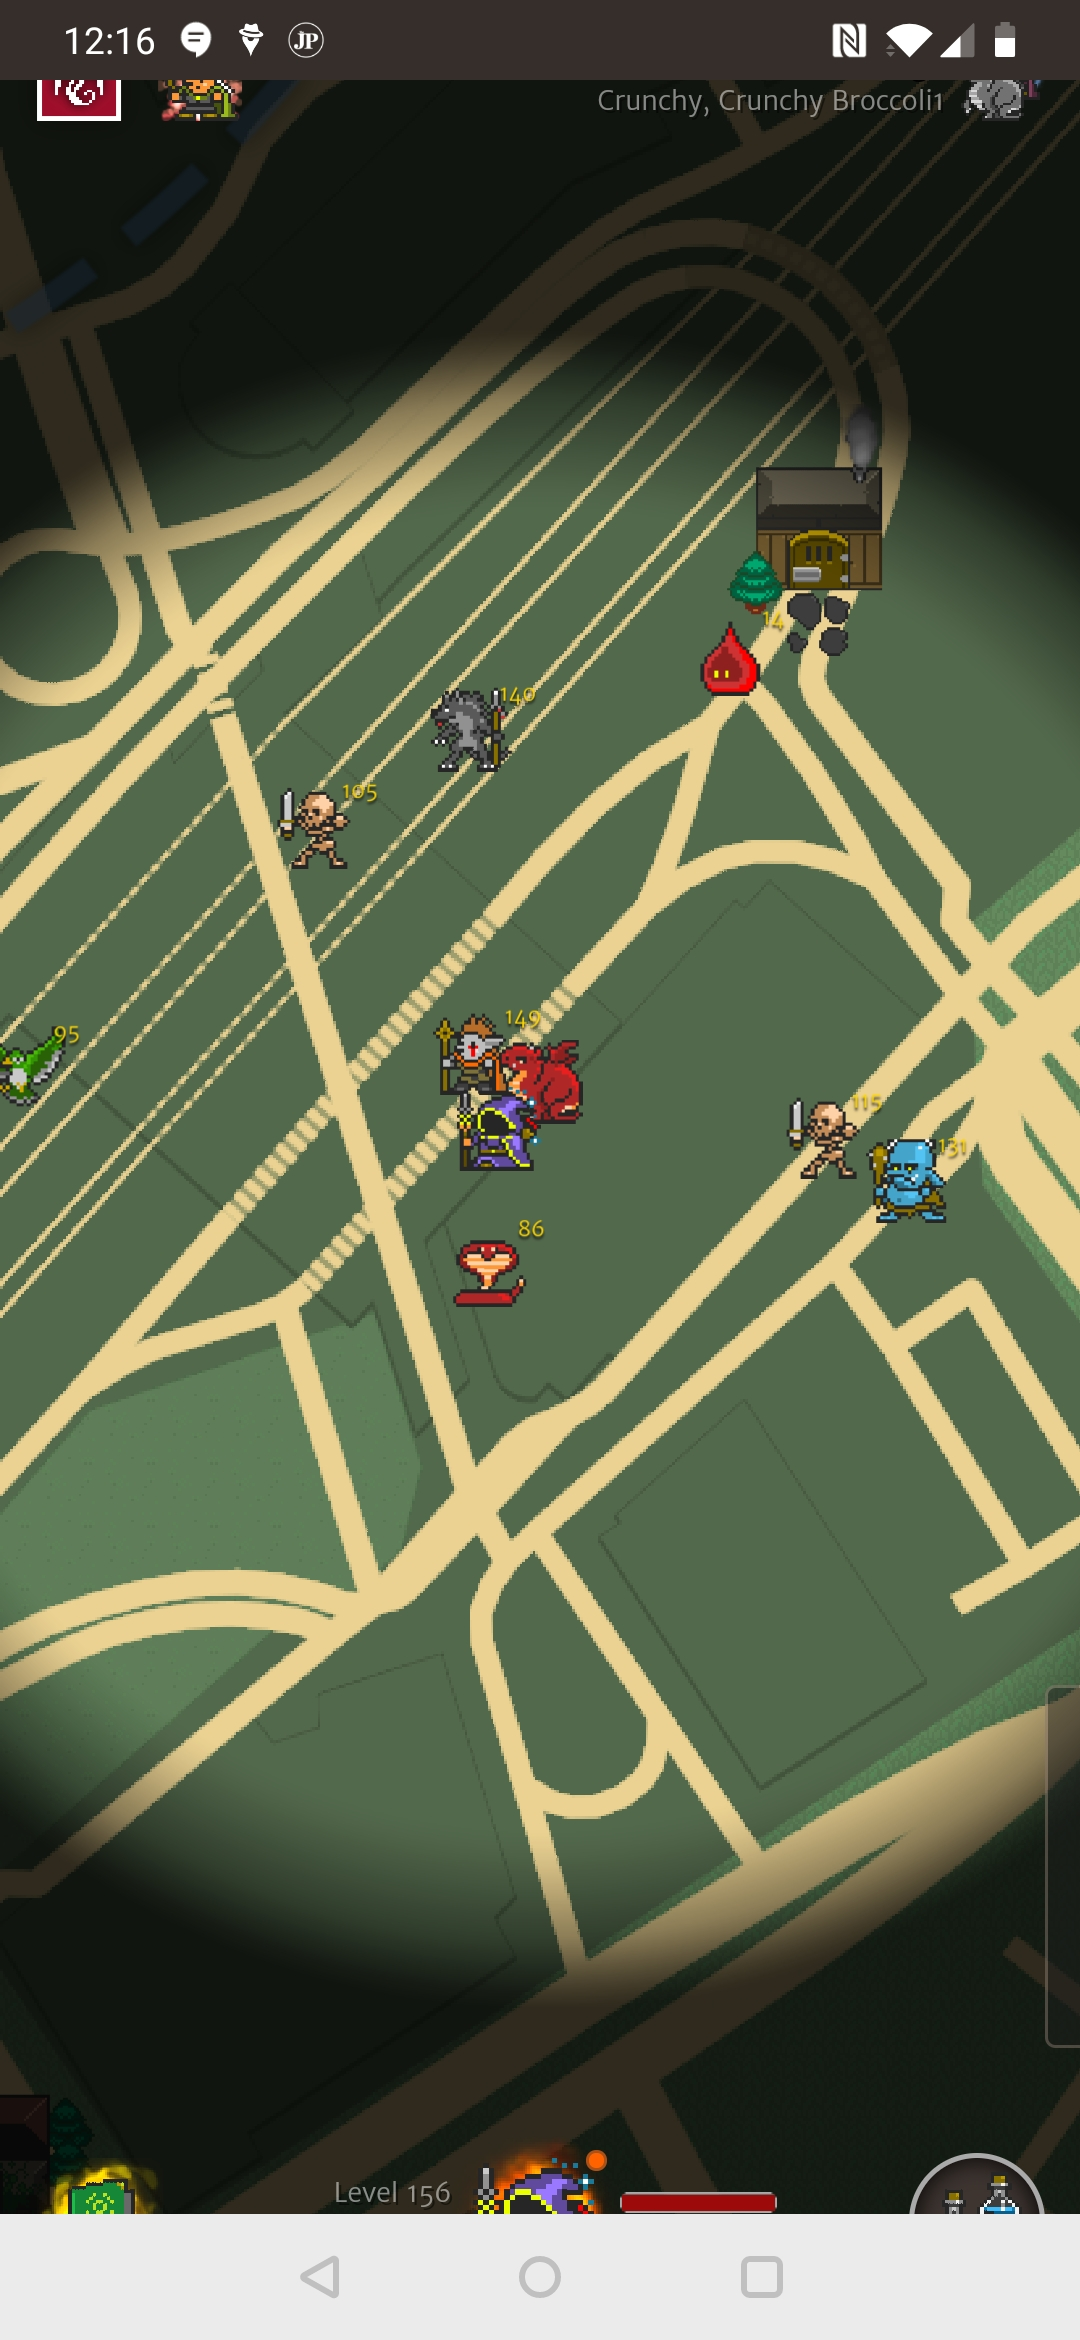monster: (436, 1207, 556, 1322), (767, 1089, 890, 1191), (859, 1135, 982, 1232), (692, 609, 790, 725), (426, 676, 538, 776), (277, 781, 390, 866), (1, 1012, 90, 1118)
player: (444, 1091, 536, 1186)
